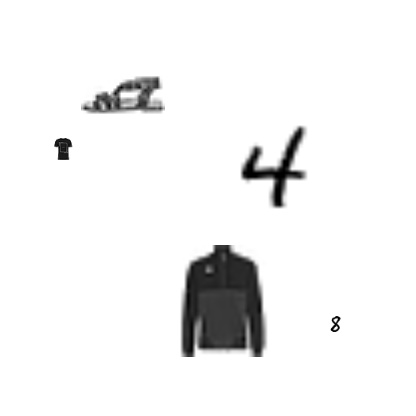4: (218, 111, 330, 223)
8: (324, 313, 346, 335)
Coat: (166, 245, 278, 357)
Sandal: (81, 53, 165, 137)
T-shirt/top: (52, 138, 74, 160)
